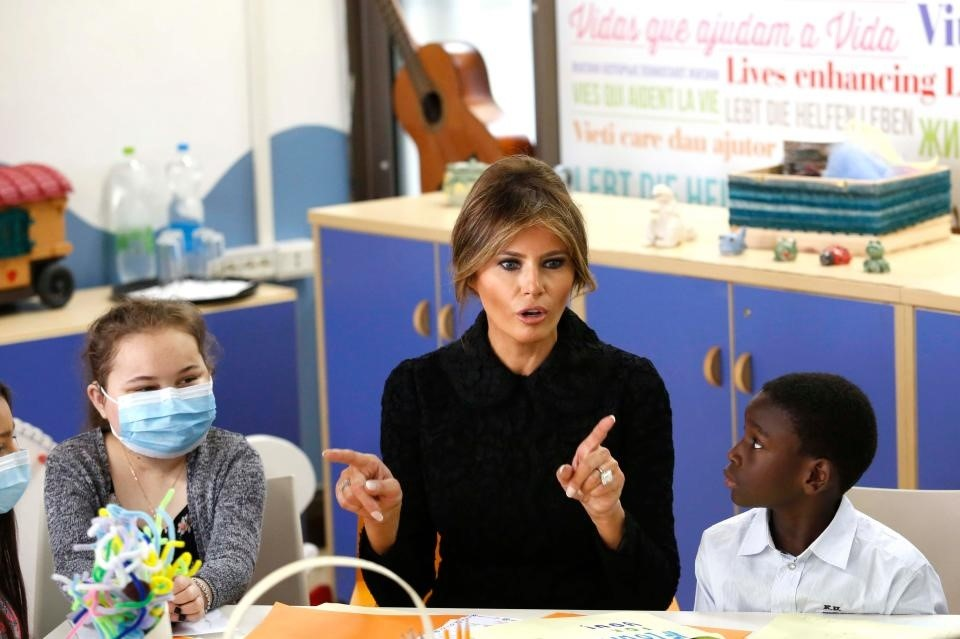face_no_mask: (454, 194, 594, 356), (717, 377, 856, 532)
face_with_mask: (79, 317, 223, 476), (0, 371, 46, 533)
